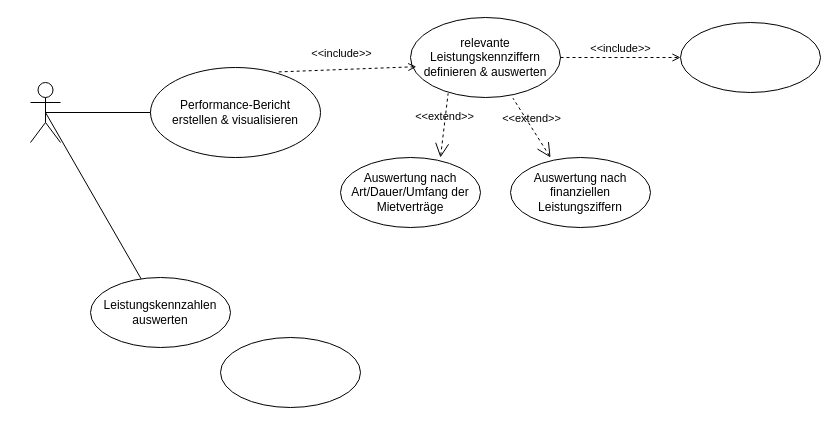
The diagram is 838 pixels wide and 425 high, and some of its shapes have lost their labels. Here are the shapes that lost their labels. From the top down, the box of each, then its label:
(680, 22, 820, 92): Relevante Daten exportieren
(30, 82, 60, 142): Mitarbeiter
(220, 336, 360, 408): Daten in das Reporting System importieren
